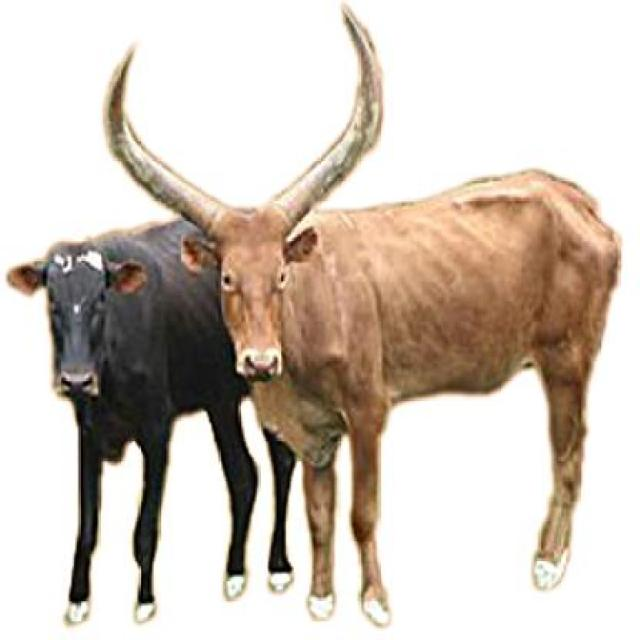Cow: (105, 0, 620, 623), (15, 206, 297, 625)
